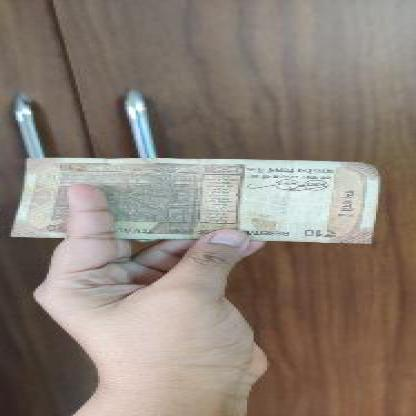New10Back: (19, 158, 370, 240)
